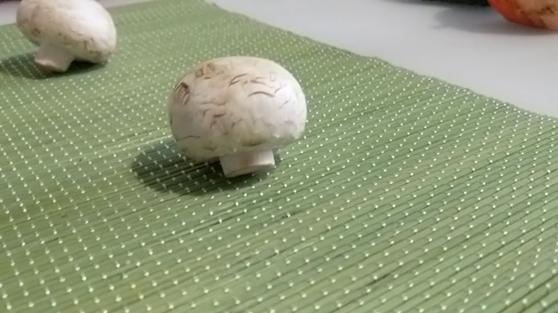champignon: (171, 47, 310, 188), (12, 1, 118, 78)
